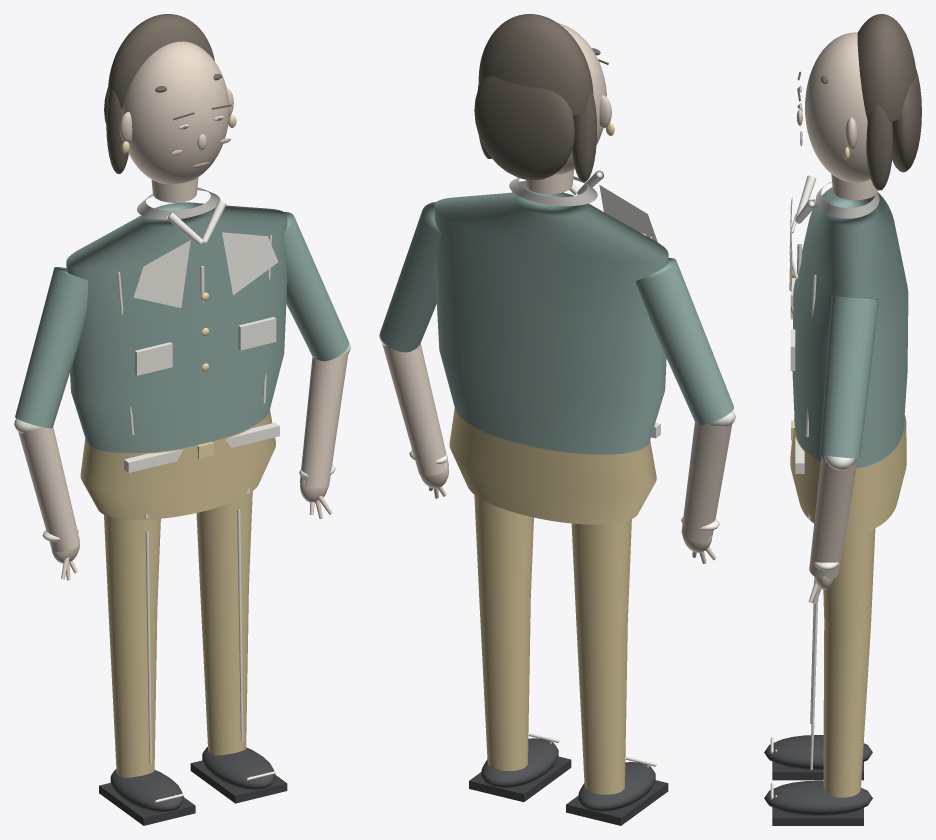
The model's file is nonBinary-relaxed.glb.
3 renders of one model, left to right at view 1: azimuth 30°, elevation 25°; view 2: azimuth 150°, elevation 25°; view 3: azimuth 270°, elevation 25°, orthographic. The views are drawn at different scales.
Visible parts, largest first — view 1: StyleFit Parametric Digital Human; view 2: StyleFit Parametric Digital Human; view 3: StyleFit Parametric Digital Human.
Part boxes in pixels (x1,y1,x2,y2): StyleFit Parametric Digital Human: (14, 14, 350, 825); StyleFit Parametric Digital Human: (379, 14, 735, 825); StyleFit Parametric Digital Human: (764, 14, 921, 825).
Size of the model in its own units: 1.02 by 2.19 by 0.4058.
